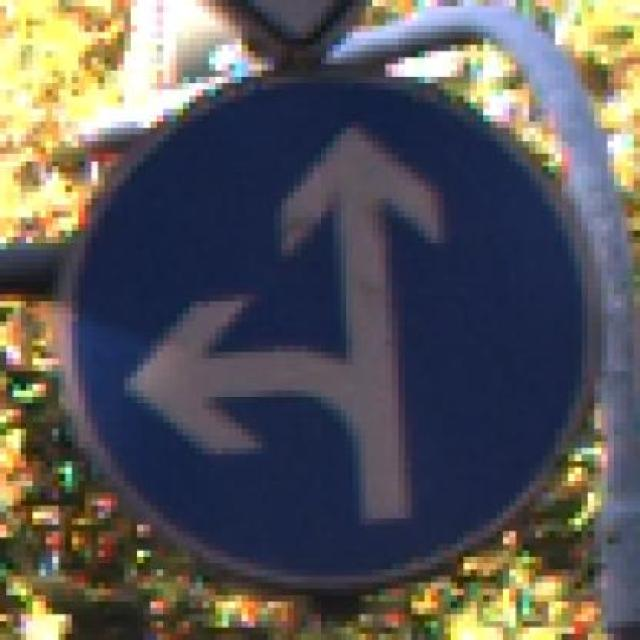Go straight or turn left: (32, 70, 614, 608)
